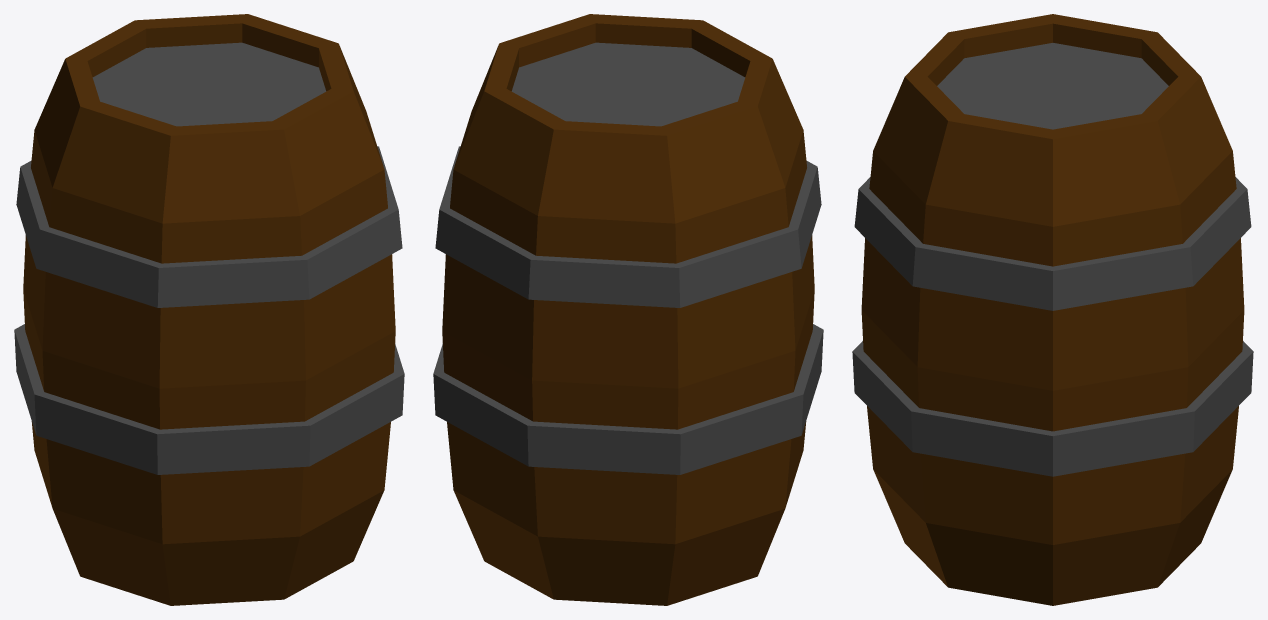
Rendered from Barrel.fbx.
The picture shows the model from 3 angles, left to right: view 1: azimuth 30°, elevation 25°; view 2: azimuth 150°, elevation 25°; view 3: azimuth 270°, elevation 25°; orthographic projection.
Visible parts, largest first — view 1: Barrel; view 2: Barrel; view 3: Barrel.
Boxes of the visible parts, <box> form: Barrel: <box>14,14,404,605</box>; Barrel: <box>433,14,823,605</box>; Barrel: <box>852,14,1253,605</box>.
Size of the model in its own units: 100 by 128 by 100.
